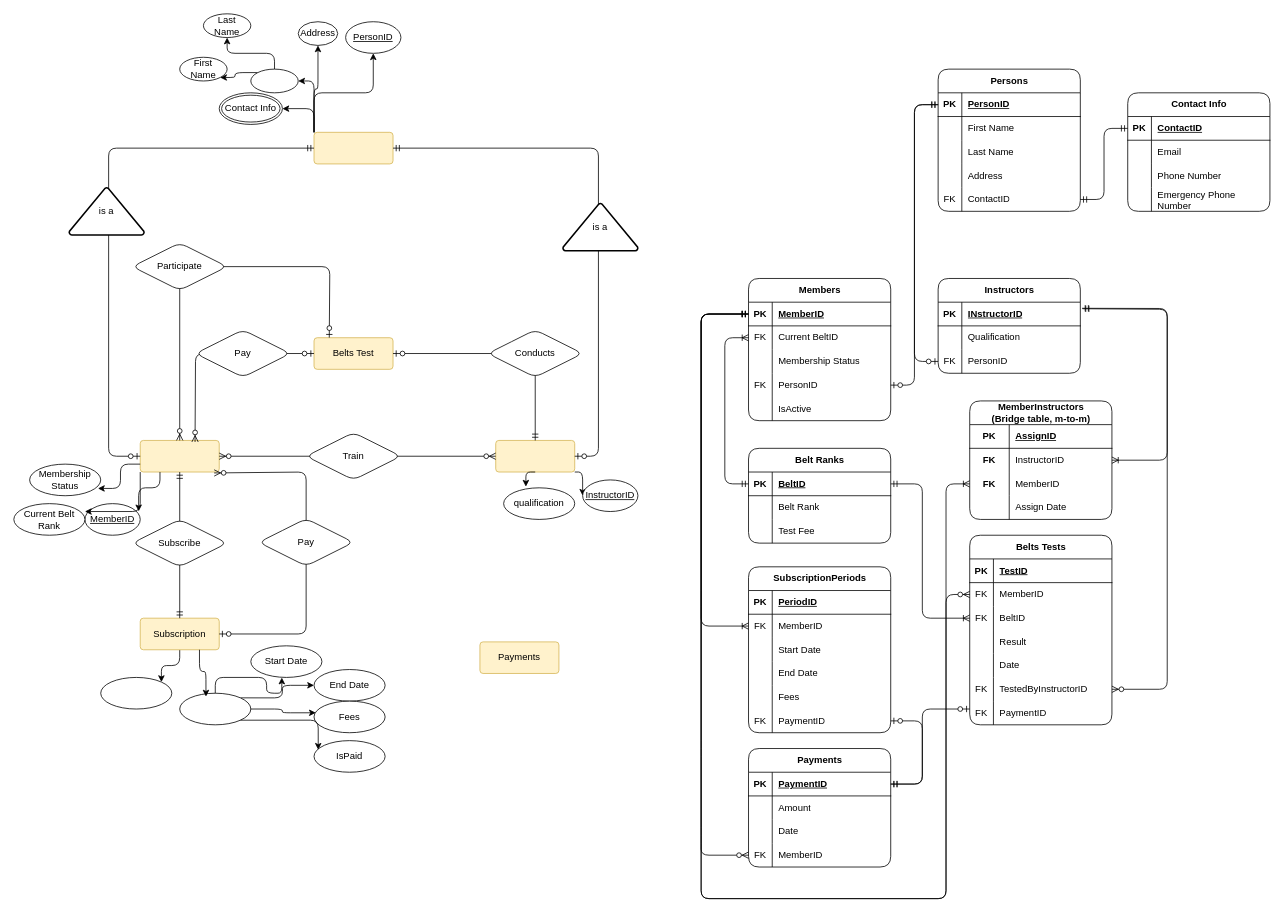
This 1284x920 diagram has some shape labels left out. Here are the shapes that lost their labels. From the top down, the centre of each, then its label:
At pixel 274 80: "Name".
At pixel 353 148: "Person".
At pixel 179 456: "Member".
At pixel 535 456: "Instructor".
At pixel 136 693: "SubscriptionID".
At pixel 215 708: "Period".
